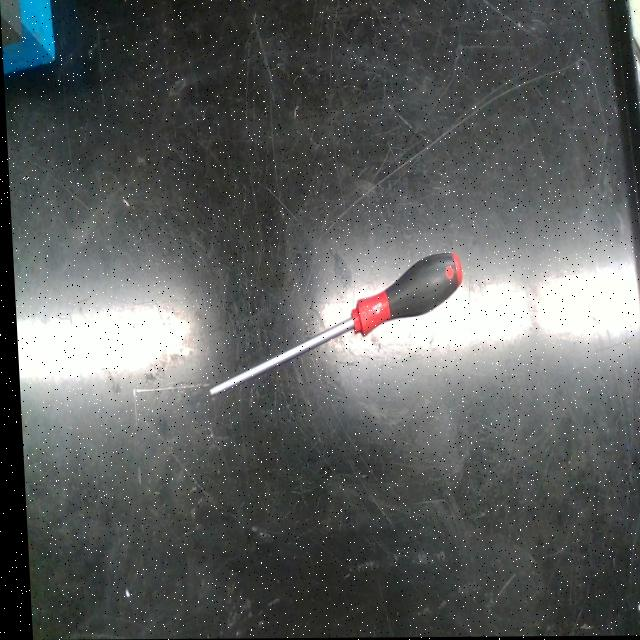Screwdriver: (206, 253, 460, 397)
